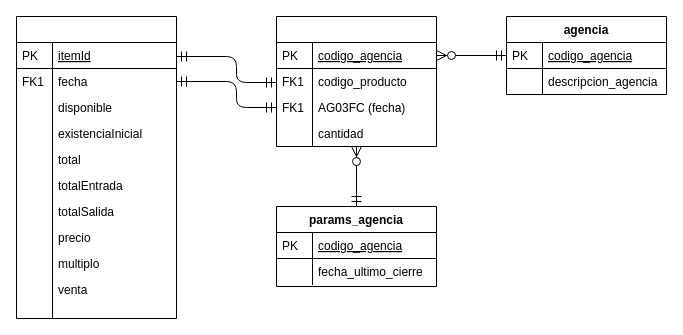
This 683x335 diagram has some shape labels left out. The shapes that lost their labels are listed below. From the top down, each one's box as (x1, y1, x2, y2) in pixels, then its label:
(276, 16, 436, 146): AGY004
(16, 16, 176, 318): INV_Inventarios
